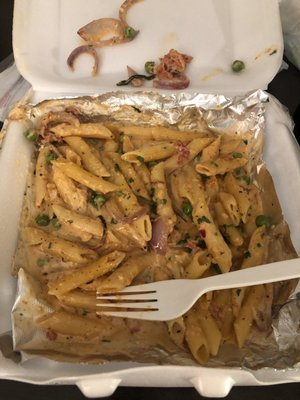burger: (64, 256, 300, 321)
